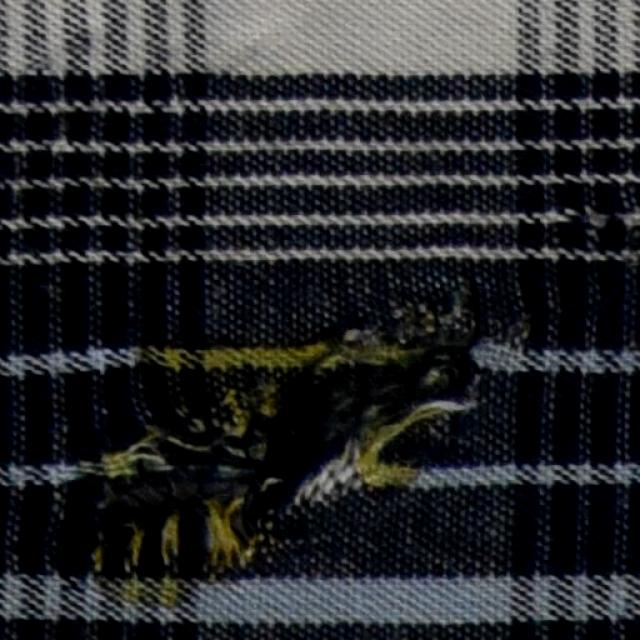Snag: (232, 389, 365, 512)
Stain: (105, 325, 416, 470), (102, 524, 234, 601), (350, 416, 433, 493)
